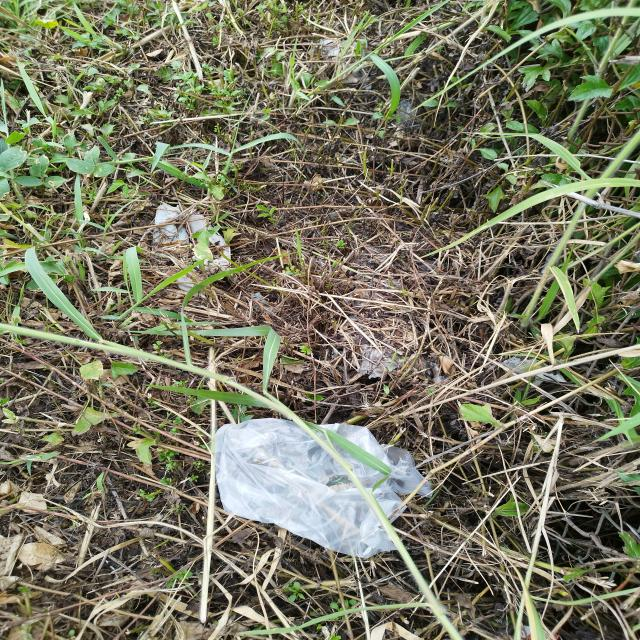bag: (212, 418, 432, 556)
